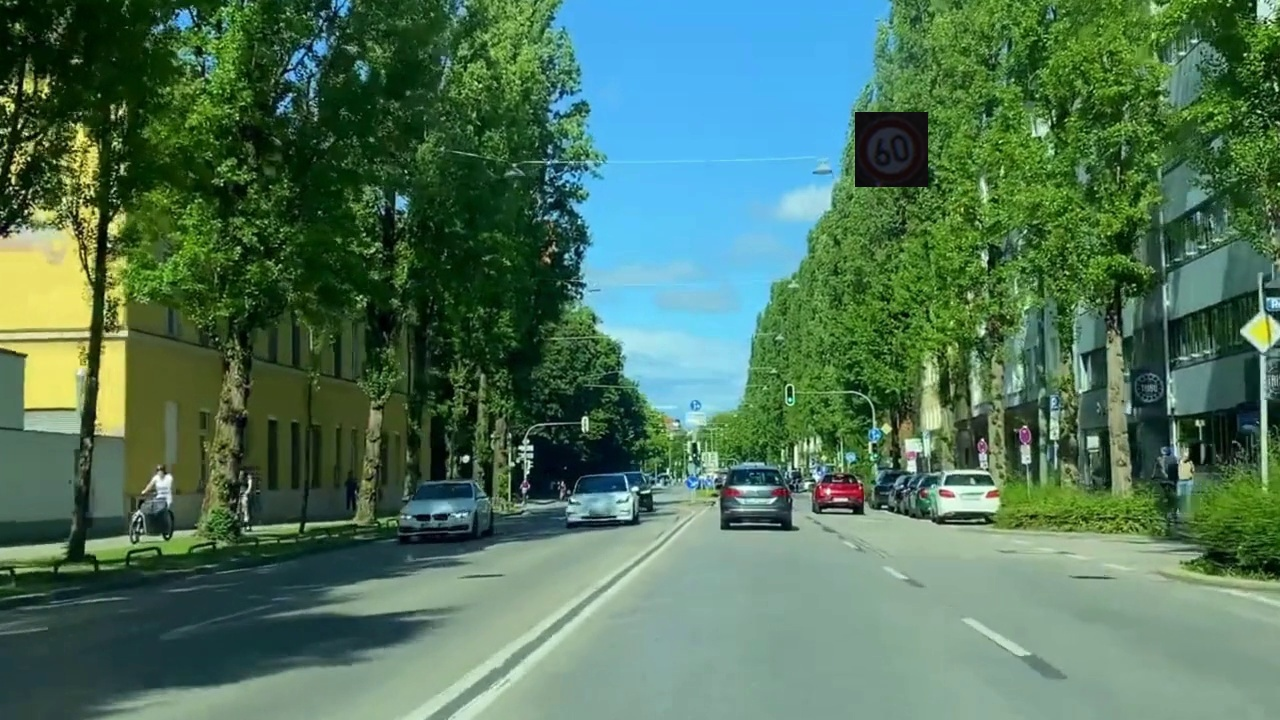Speed 60: (855, 112, 928, 187)
